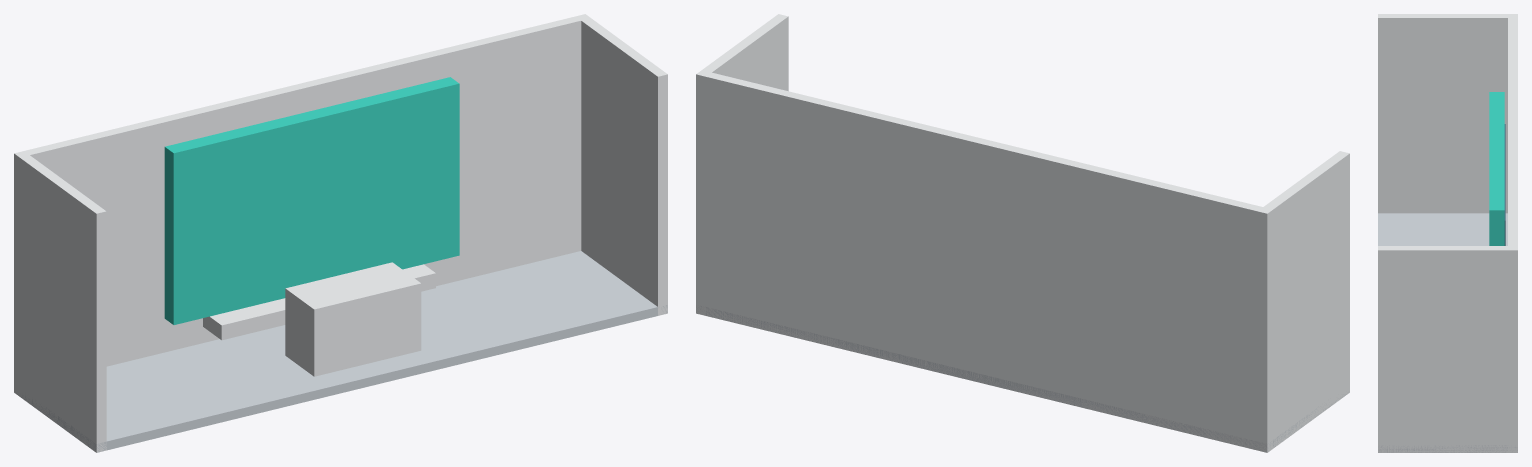
3 renders of one model, left to right at view 1: azimuth 30°, elevation 25°; view 2: azimuth 150°, elevation 25°; view 3: azimuth 270°, elevation 25°, orthographic. The views are drawn at different scales.
Parts seen in each view (by area): view 1: Exhibition Booth Concept; view 2: Exhibition Booth Concept; view 3: Exhibition Booth Concept.
Boxes of the visible parts, box(x1,y1,x2,y2) form: Exhibition Booth Concept: box(14, 14, 667, 452); Exhibition Booth Concept: box(696, 14, 1349, 452); Exhibition Booth Concept: box(1378, 14, 1517, 452).
Bounding box in the file's own units: 8 × 3.2 × 2.
